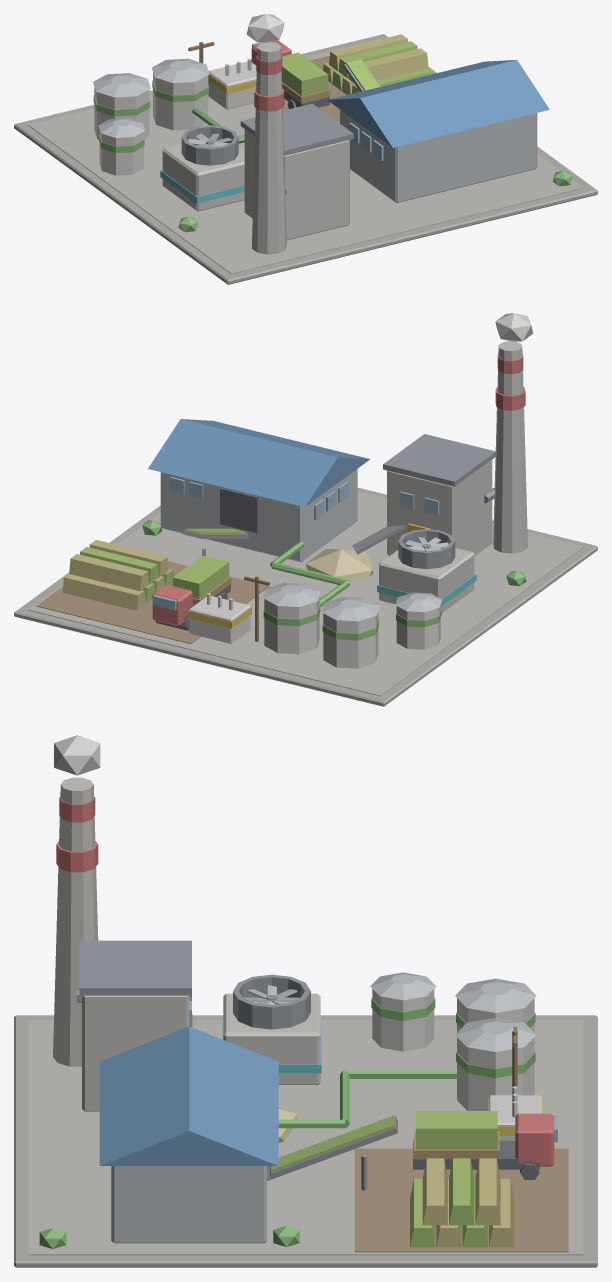
File: energia__usina_cana.glb
3 views of the same model, one above another, from view 1: azimuth 30°, elevation 25°; view 2: azimuth 150°, elevation 25°; view 3: azimuth 270°, elevation 25° (orthographic). The views are drawn at different scales.
Parts seen in each view (by area): view 1: energia__usina_cana; view 2: energia__usina_cana; view 3: energia__usina_cana.
Boxes of the visible parts, x1=… form: energia__usina_cana: x1=14, y1=14, x2=597, y2=284; energia__usina_cana: x1=14, y1=313, x2=597, y2=706; energia__usina_cana: x1=14, y1=735, x2=597, y2=1267.
Bounding box in the file's own units: 6 × 4.08 × 6.
